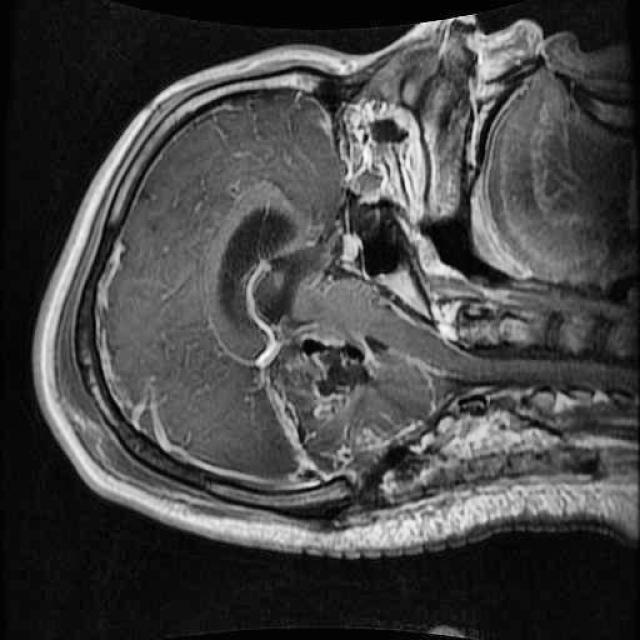Non-Tumor: (239, 310, 451, 510)
